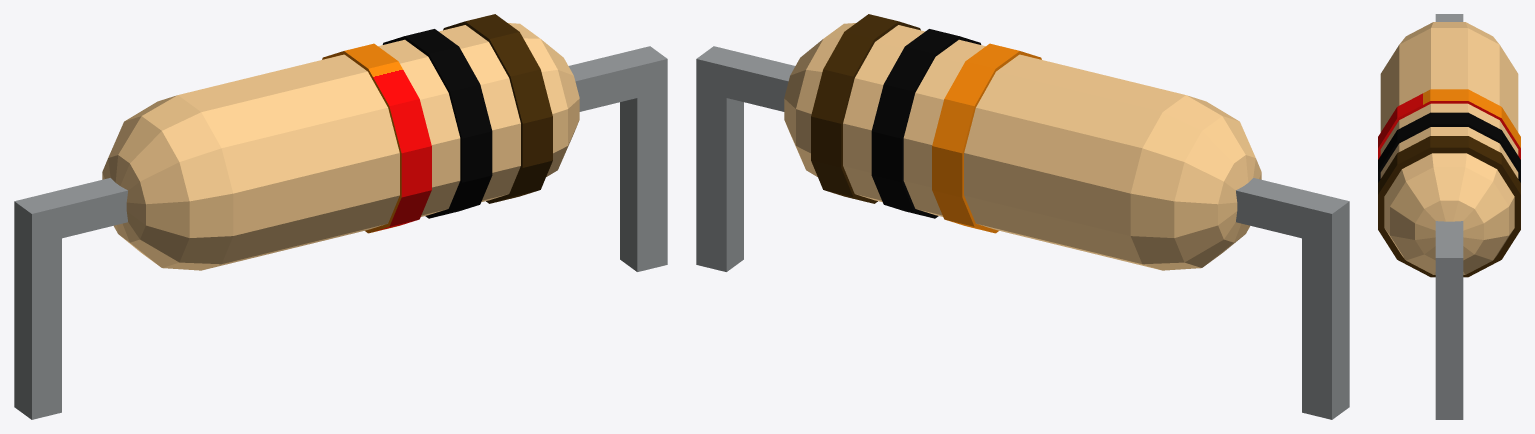
The model's file is resistor10K.obj.
3 views of the same model, side by side, from view 1: azimuth 30°, elevation 25°; view 2: azimuth 150°, elevation 25°; view 3: azimuth 270°, elevation 25° (orthographic). The views are drawn at different scales.
Parts seen in each view (by area): view 1: body, mesh, sphere, cylinder; view 2: body, mesh, sphere, cylinder; view 3: sphere, body, cylinder, mesh.
Boxes of the visible parts, x1,y1,x2,y2 form: body: (178,25,520,269); mesh: (14,46,667,419); sphere: (102,23,579,270); cylinder: (322,14,552,233); body: (843,25,1185,269); mesh: (696,46,1349,419); sphere: (784,23,1261,270); cylinder: (811,14,1041,233); sphere: (1384,22,1514,274); body: (1380,28,1518,178); cylinder: (1378,89,1520,277); mesh: (1435,14,1463,419).
Size of the model in its own units: 0.6562 by 0.2688 by 0.1625.
1 material, 1 textured.
